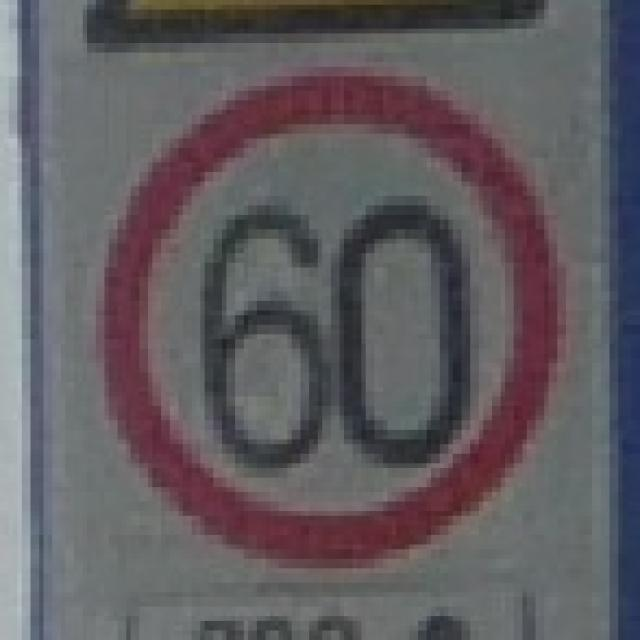Speed Limit -60-: (197, 194, 475, 476)
